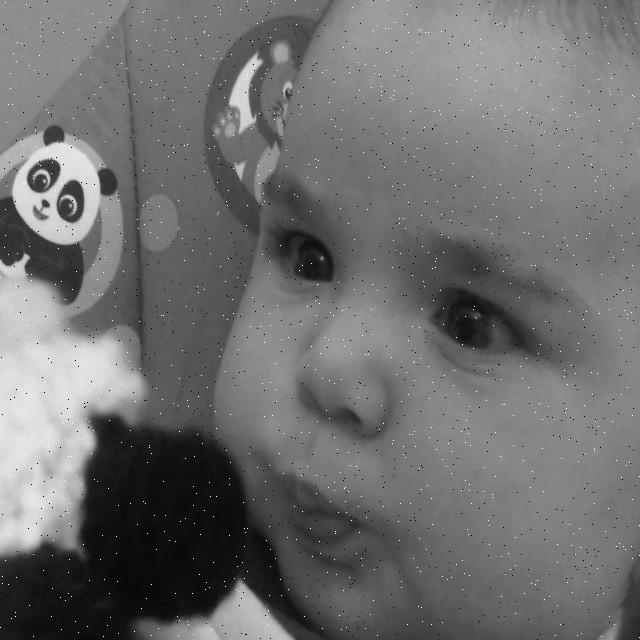panda: (0, 125, 115, 302)
